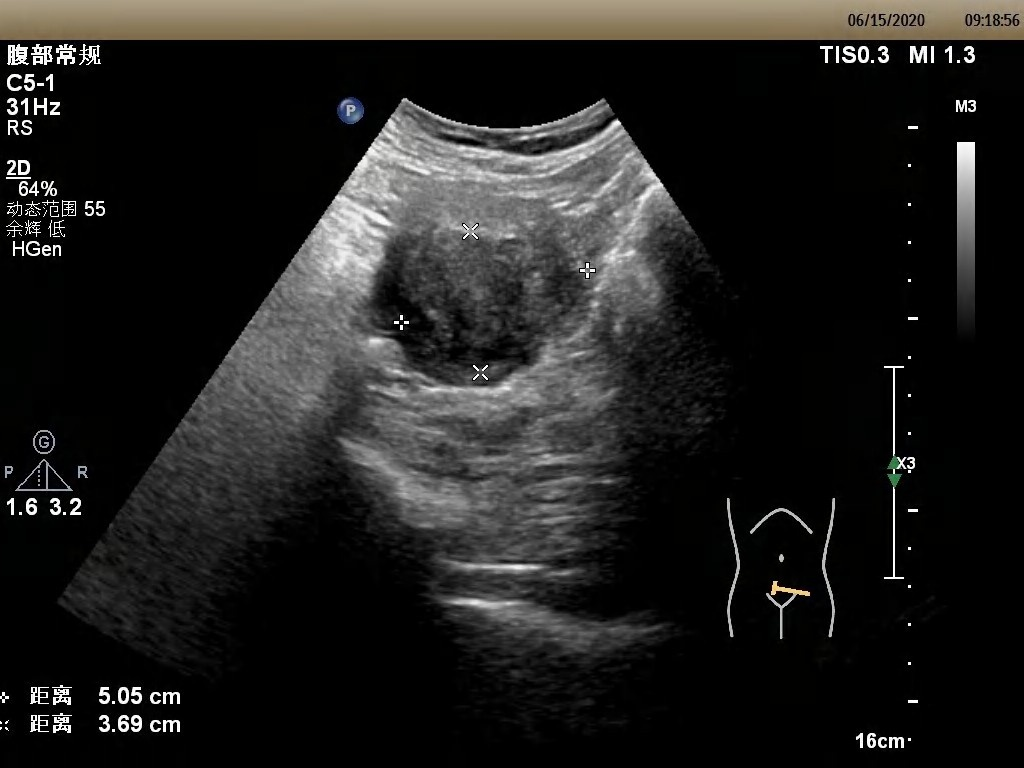肌瘤: (399, 226, 589, 374)
